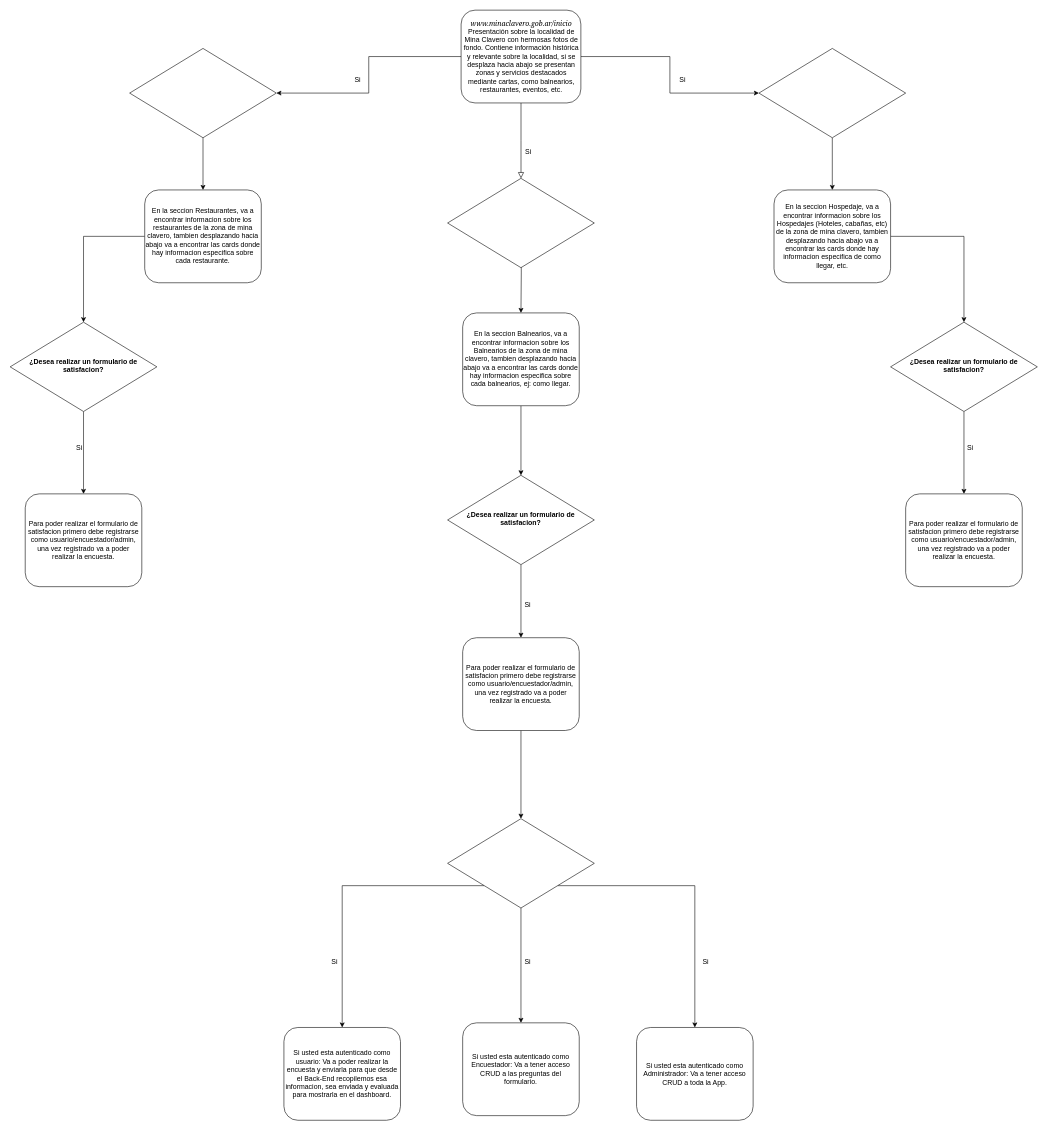
Some shapes in this 1047 by 1130 pixel diagram are drawn without their labels. The centre of each missing label's shape, as x and y in pixels:
Balnearios www.minaclavero.gob.ar/inicio/balnearios: pixel 520 223
Hospedaje www.minaclavero.gob.ar/inicio/hospedaje: pixel 832 93
Restaurantes www.minaclavero.gob.ar/inicio/restaurantes: pixel 202 93
¿Esta usted autenticado (user/encuestadir/admin)?: pixel 520 863
